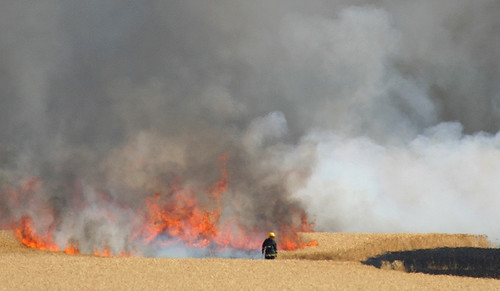fire: (16, 185, 311, 269)
firefighter: (260, 225, 280, 264)
smoke: (1, 1, 500, 182)
